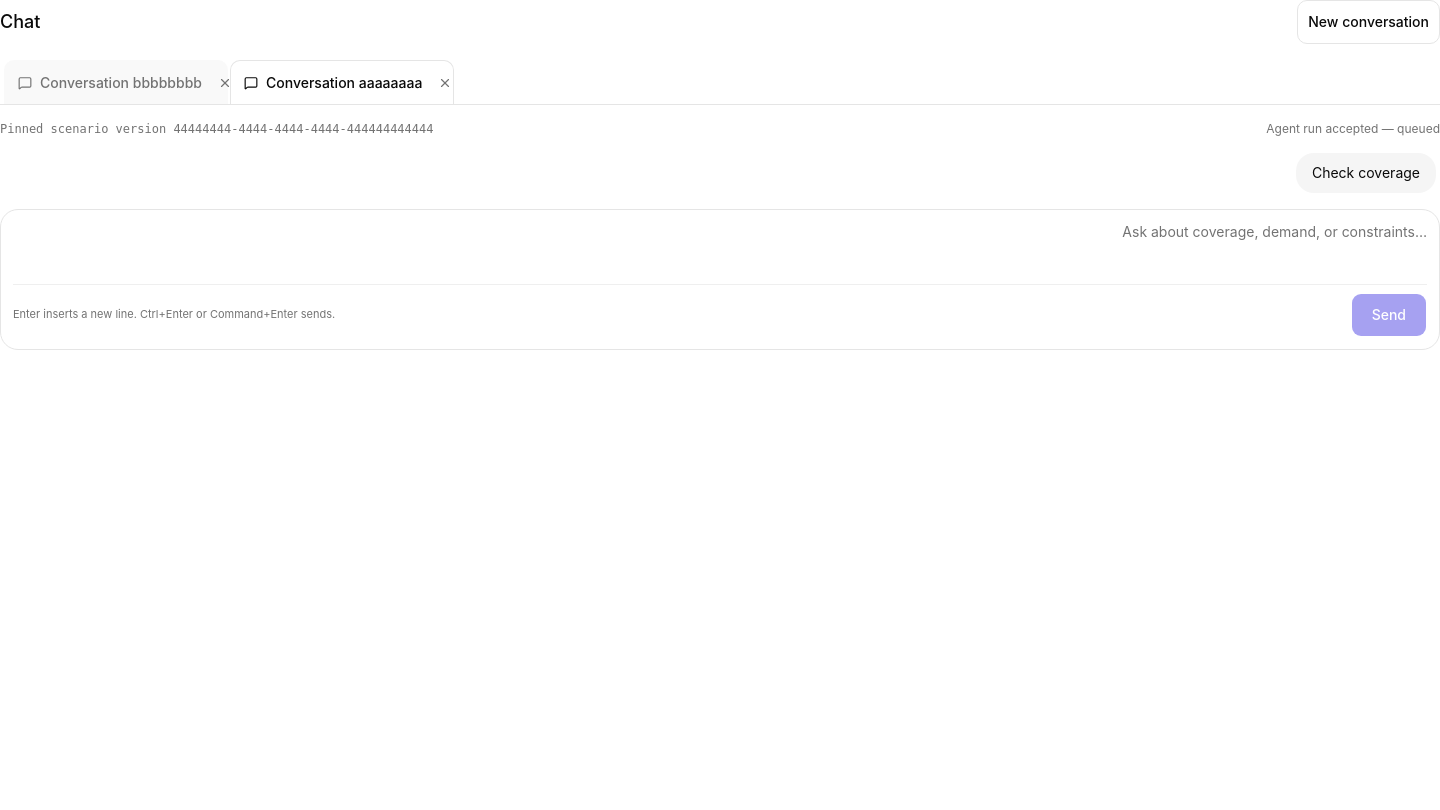
ChatView › surfaces a failed archive with a retry action, rather than failing silently
Click the button named "Archive conversation aaaaaaaa" at (445, 83), box [427,61,463,105]
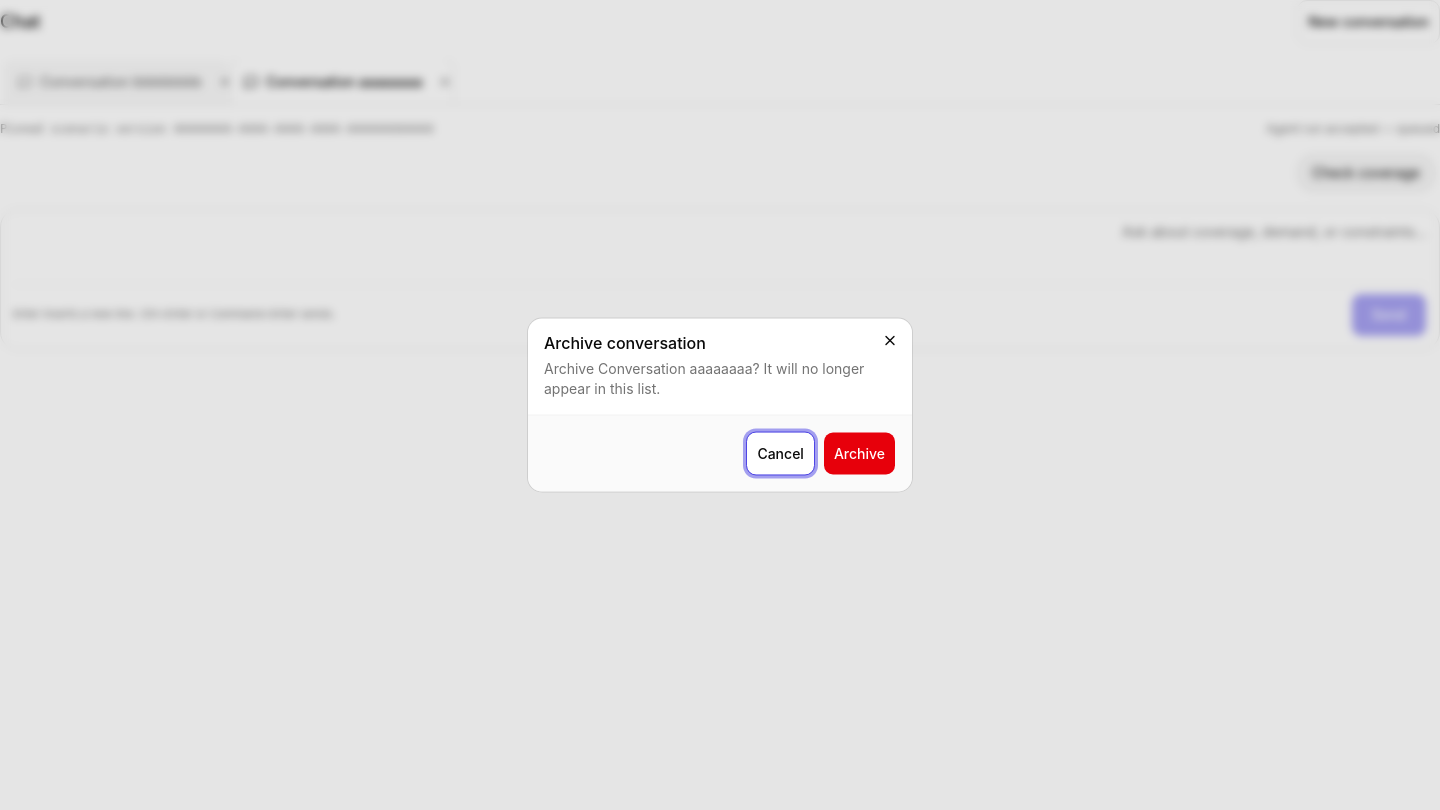
Click the button "Archive" at (859, 454), box [823,432,896,476]
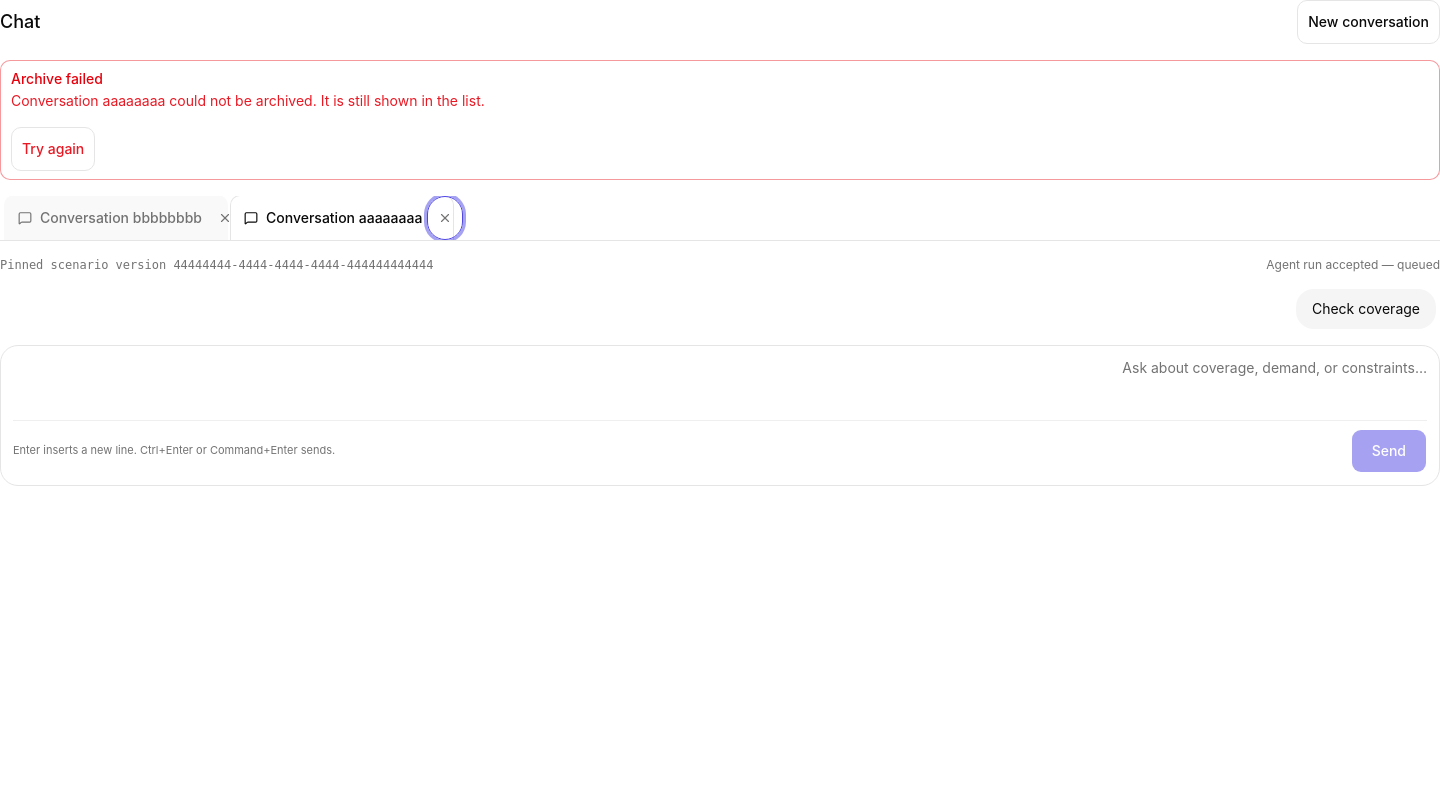
Check: the text "Archive failed" is shown, box [11,70,103,87]
Click the button "Try again" at (53, 149), box [11,127,95,171]
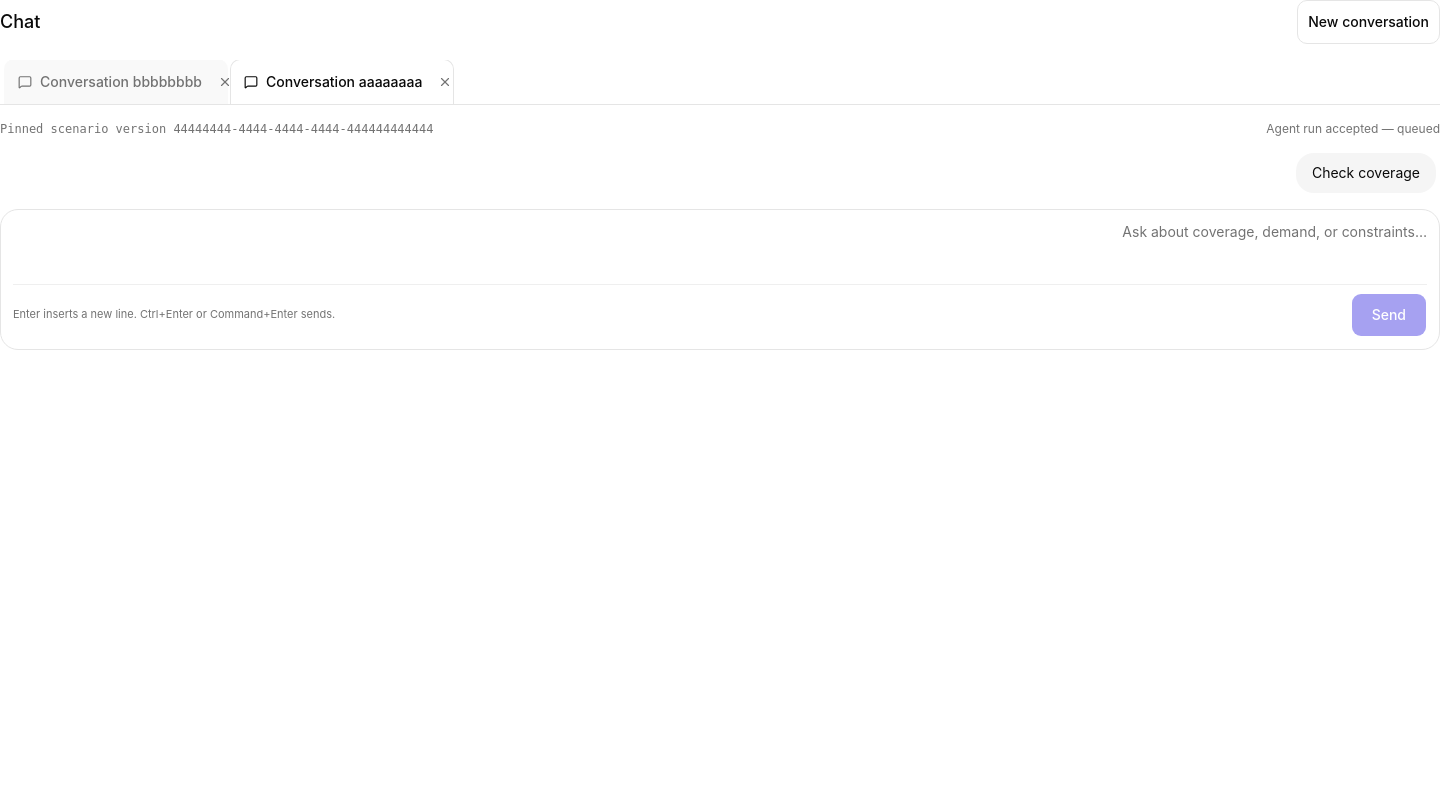
Check: the text "Archive failed" is gone
